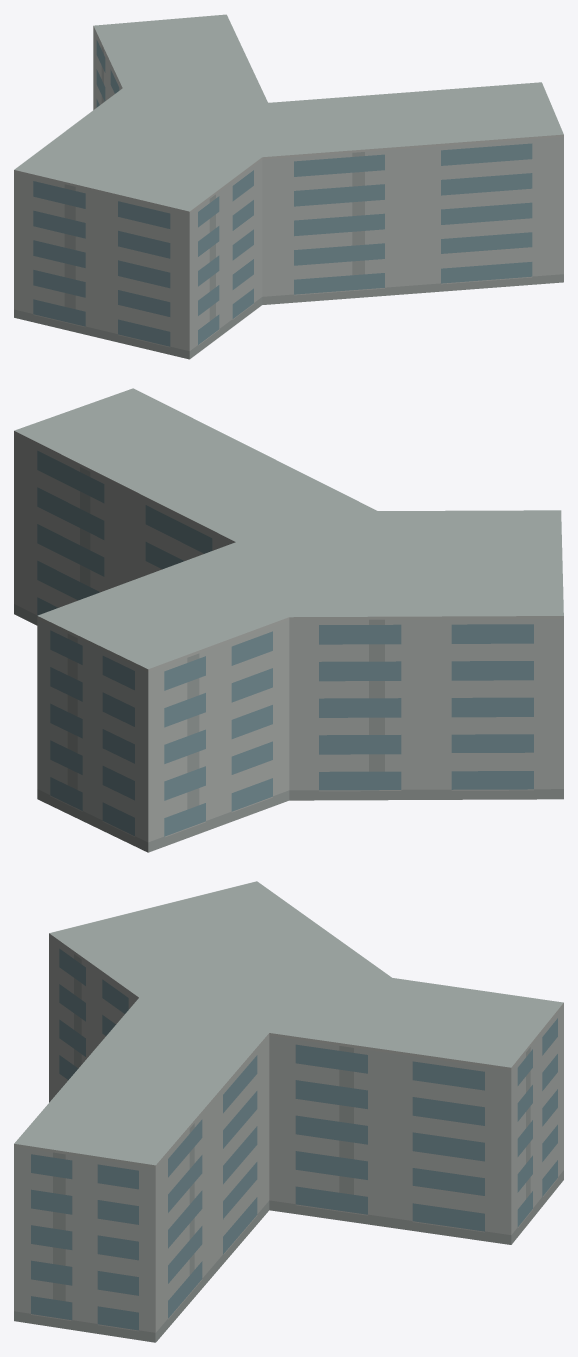
Rendered from residential-9ce25837-db31-4214-bf70-8c272a37c49d.glb.
3 views of the same model, one above another, from view 1: azimuth 30°, elevation 25°; view 2: azimuth 150°, elevation 25°; view 3: azimuth 270°, elevation 25° (orthographic). The views are drawn at different scales.
Visible parts, largest first — view 1: residential-9ce25837-db31-4214-bf70-8c272a37c49d.tmp; view 2: residential-9ce25837-db31-4214-bf70-8c272a37c49d.tmp; view 3: residential-9ce25837-db31-4214-bf70-8c272a37c49d.tmp.
Boxes of the visible parts, x1,y1,x2,y2 form: residential-9ce25837-db31-4214-bf70-8c272a37c49d.tmp: [14, 14, 563, 359]; residential-9ce25837-db31-4214-bf70-8c272a37c49d.tmp: [14, 388, 563, 852]; residential-9ce25837-db31-4214-bf70-8c272a37c49d.tmp: [14, 881, 563, 1342].
Size of the model in its own units: 52.42 by 15.25 by 42.86.
